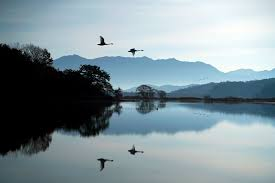lake: (30, 98, 272, 183)
mountain: (8, 52, 273, 97)
sky: (1, 1, 275, 59)
